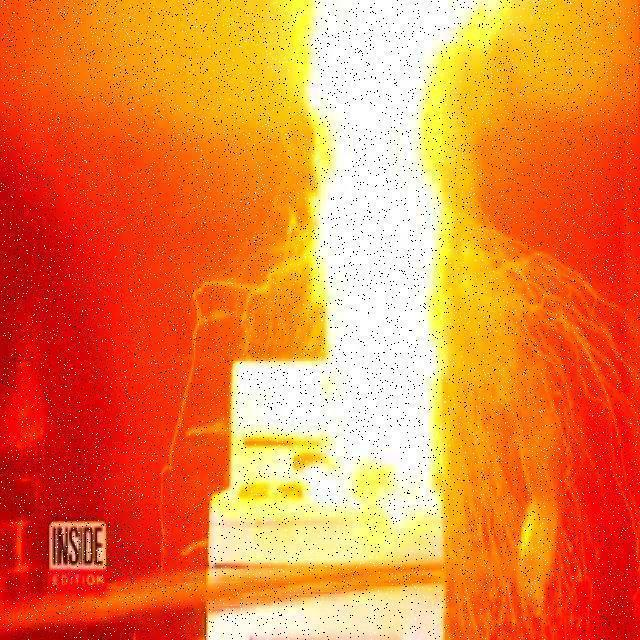smoke: (280, 2, 482, 504)
